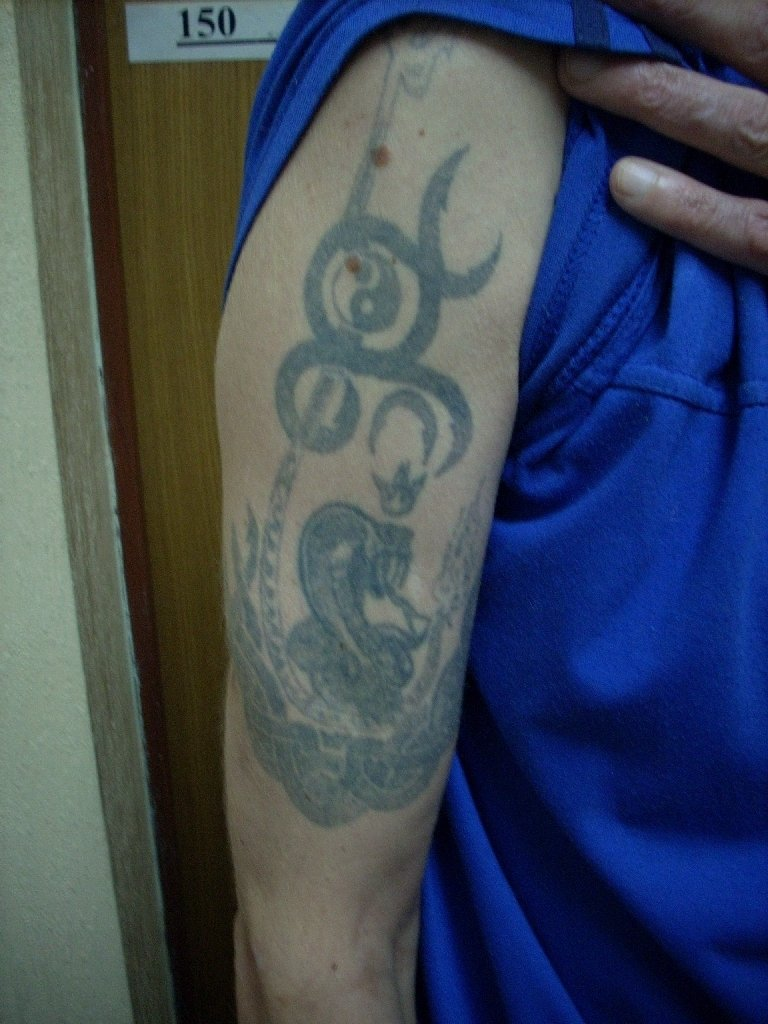tatu7_zmeya: (232, 450, 455, 767)
